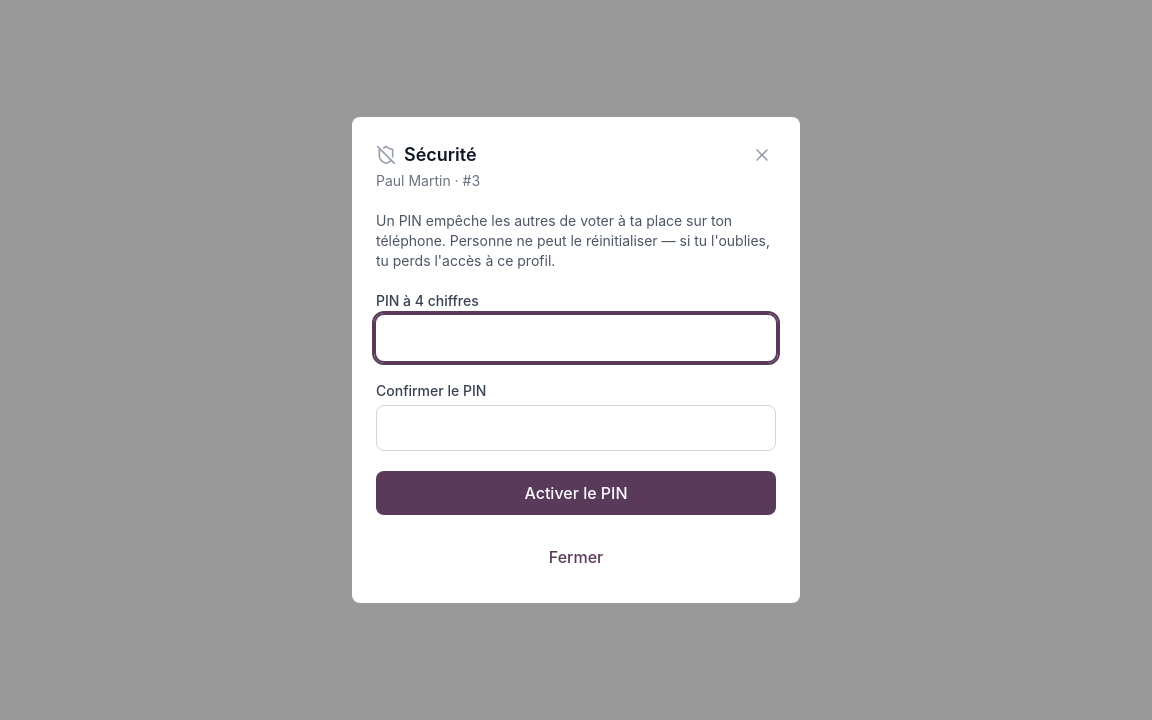
SecurityModal — profil SANS PIN › refuse un PIN trop court
Type "12" into the password field labelled "PIN à 4 chiffres" at (576,338), box [376, 315, 776, 361]
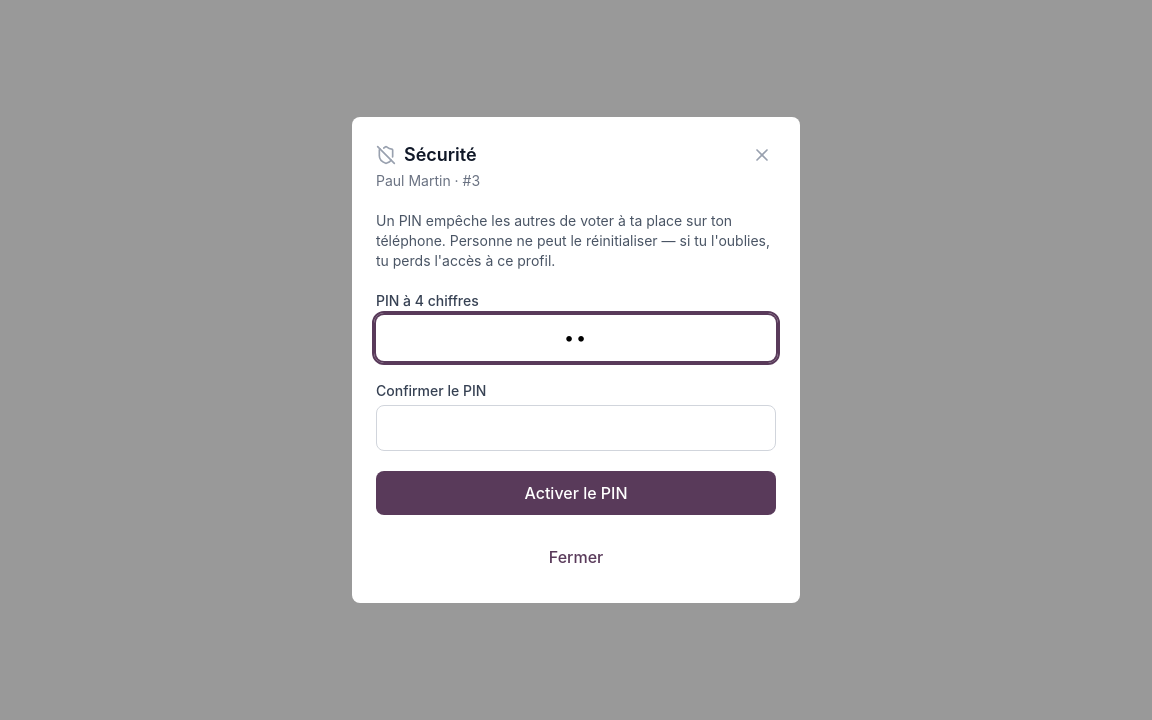
Type "12" into the password field labelled "Confirmer le PIN" at (576,428), box [376, 405, 776, 451]
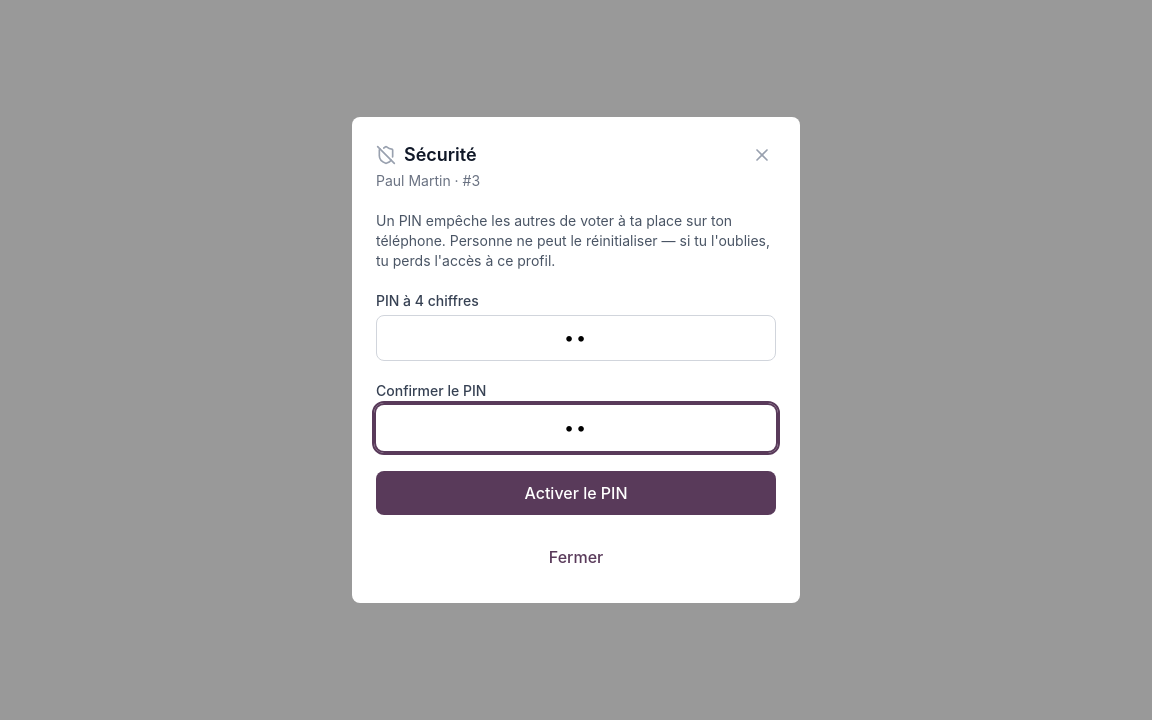
Click the button "Activer le PIN" at (576,493), box [376, 471, 776, 515]
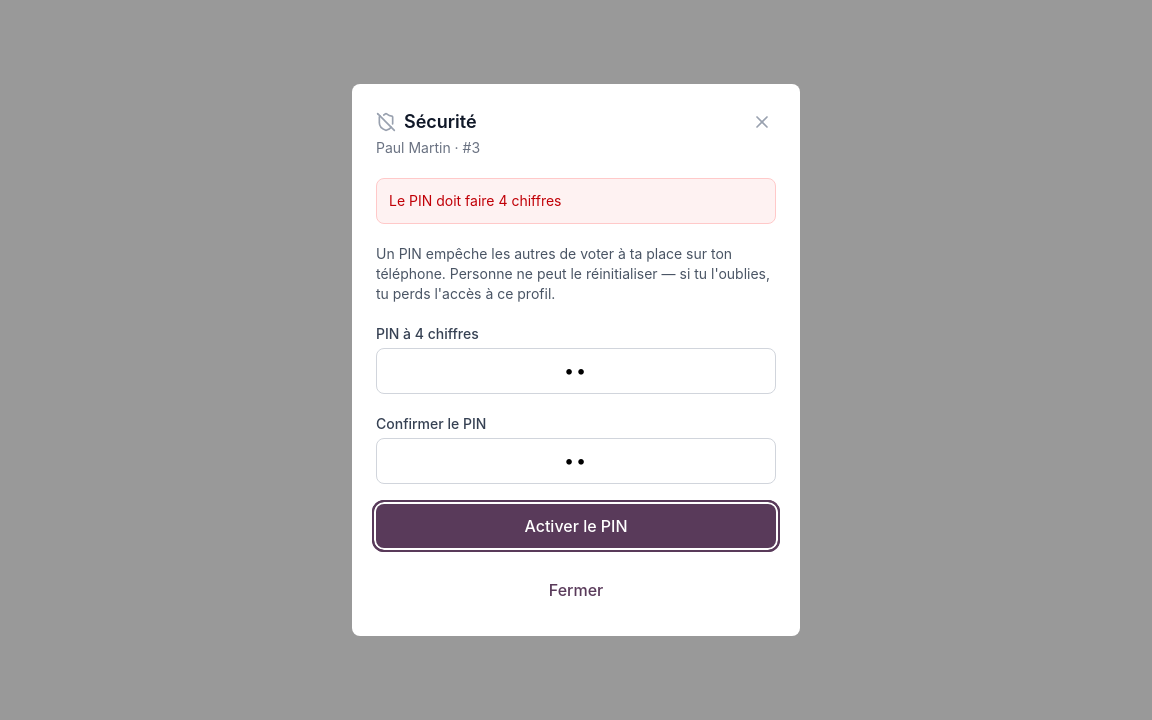
Check: the text "Le PIN doit faire 4 chiffres" is shown, box [376, 178, 776, 224]
